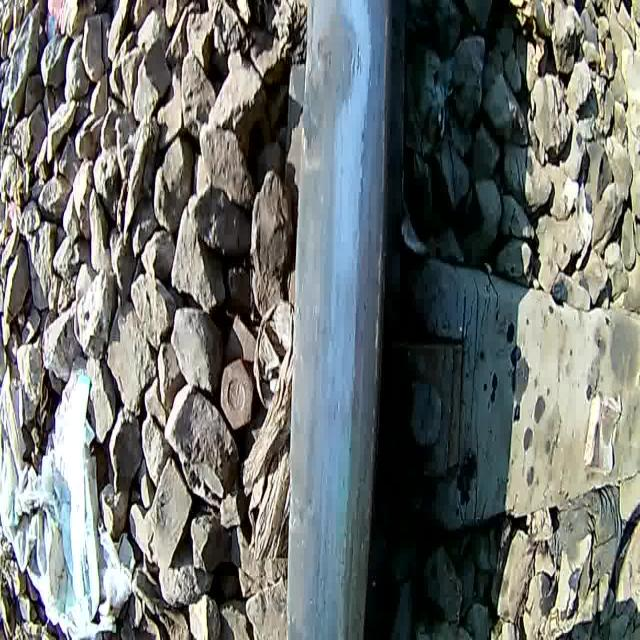Squats: (302, 3, 365, 156)
